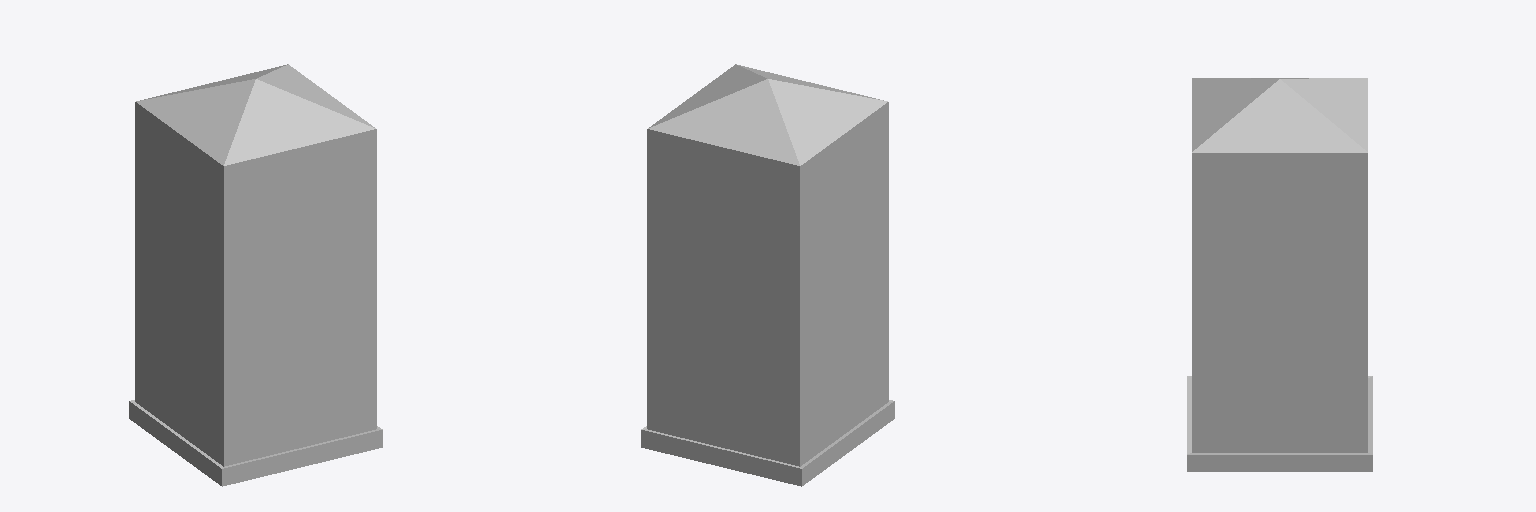
File: trash_can.obj
3 renders of one model, left to right at view 1: azimuth 30°, elevation 25°; view 2: azimuth 150°, elevation 25°; view 3: azimuth 270°, elevation 25°, orthographic.
Visible parts, largest first — view 1: Cube; view 2: Cube; view 3: Cube.
Part boxes in pixels (x1,y1,x2,y2): Cube: (129,64,382,486); Cube: (641,64,894,486); Cube: (1187,78,1372,471).
Size of the model in its own units: 2.1 by 4.42 by 2.1.